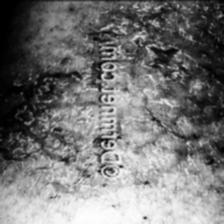Non-Cancerous Skin Condition: (0, 6, 224, 204)
